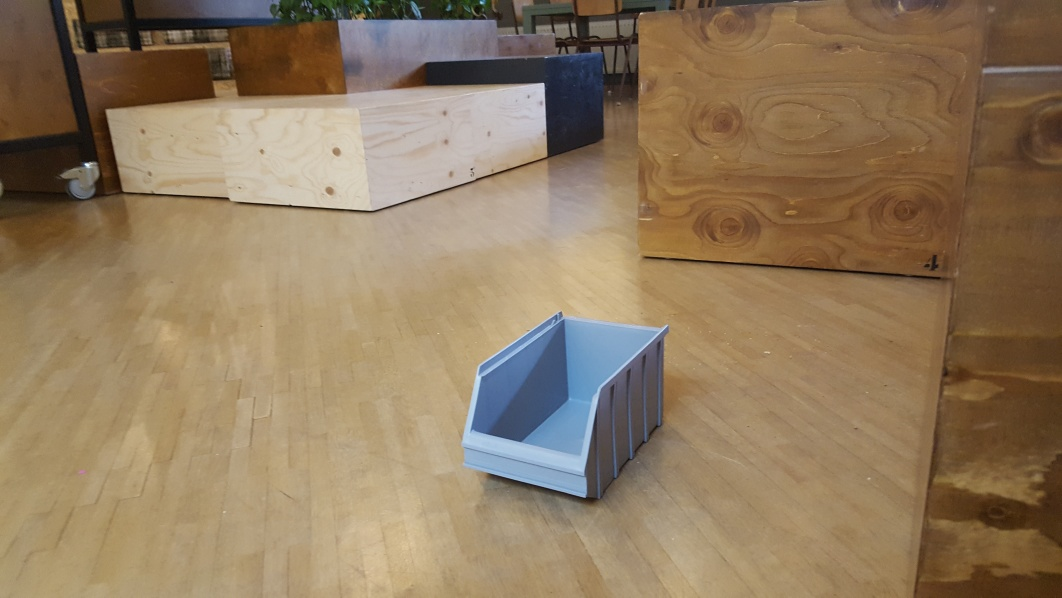tray: (460, 310, 671, 501)
